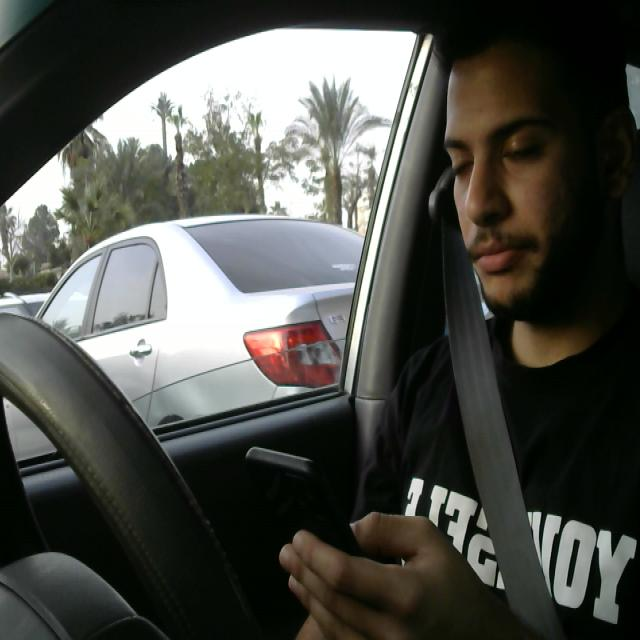mobile use: (238, 448, 422, 612)
